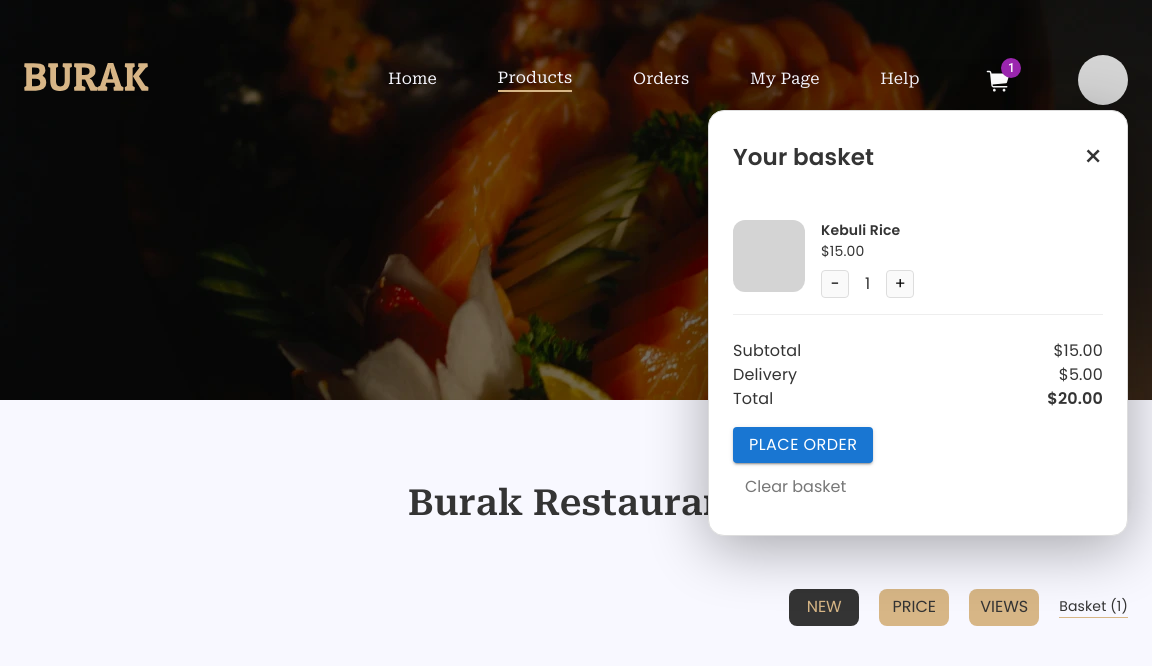
Scenario: an unconfirmed checkout preserves the basket and does not retry the POST
The image size is (1152, 666).
Click the button "Place order" at (803, 445), box top-left (733, 427), bottom-right (873, 463)
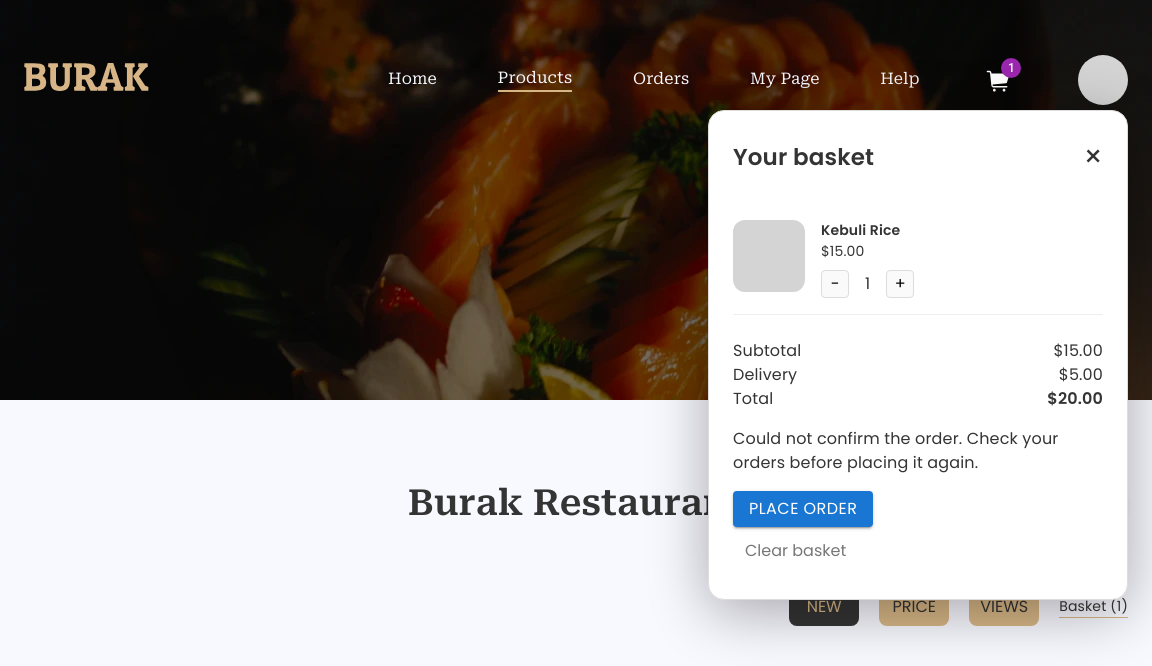
Expected: the message shows "Could not confirm the order", top-left (733, 427), bottom-right (967, 450)
